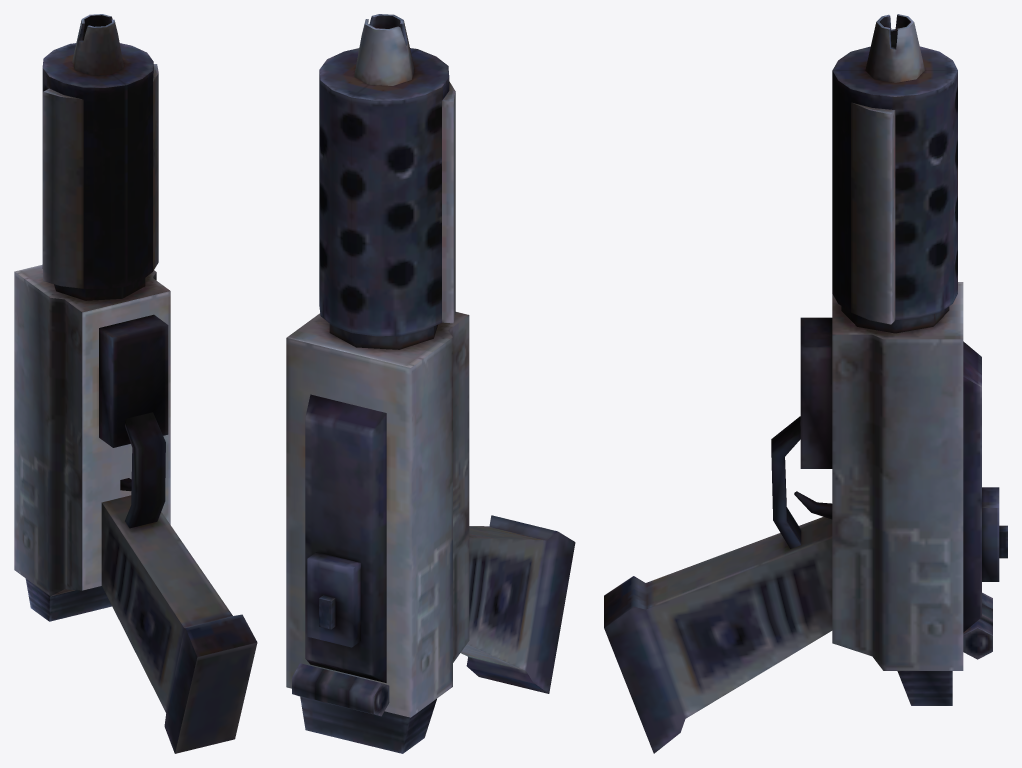
File: pistol1.glb
3 renders of one model, left to right at view 1: azimuth 30°, elevation 25°; view 2: azimuth 150°, elevation 25°; view 3: azimuth 270°, elevation 25°, orthographic. The views are drawn at different scales.
Parts seen in each view (by area): view 1: blaster_high01_a01_v01; view 2: blaster_high01_a01_v01; view 3: blaster_high01_a01_v01.
Boxes of the visible parts, left/top/right/bottom form: blaster_high01_a01_v01: left=14, top=14, right=257, bottom=753; blaster_high01_a01_v01: left=286, top=14, right=575, bottom=753; blaster_high01_a01_v01: left=604, top=14, right=1007, bottom=753.
Size of the model in its own units: 0.00796 by 0.0431 by 0.022.
1 material, 1 textured.
